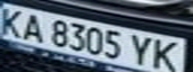0: (84, 25, 106, 56)
3: (66, 20, 87, 53)
5: (103, 28, 127, 61)
8: (42, 17, 72, 48)
A: (18, 11, 48, 43)
K: (148, 37, 187, 72), (0, 6, 30, 37)
Y: (127, 33, 160, 66)
